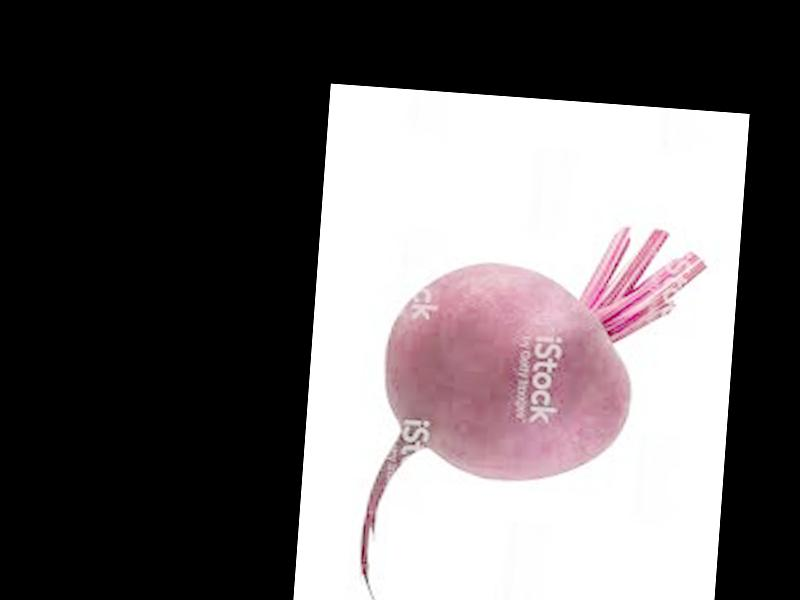Beet: (359, 208, 708, 600)
